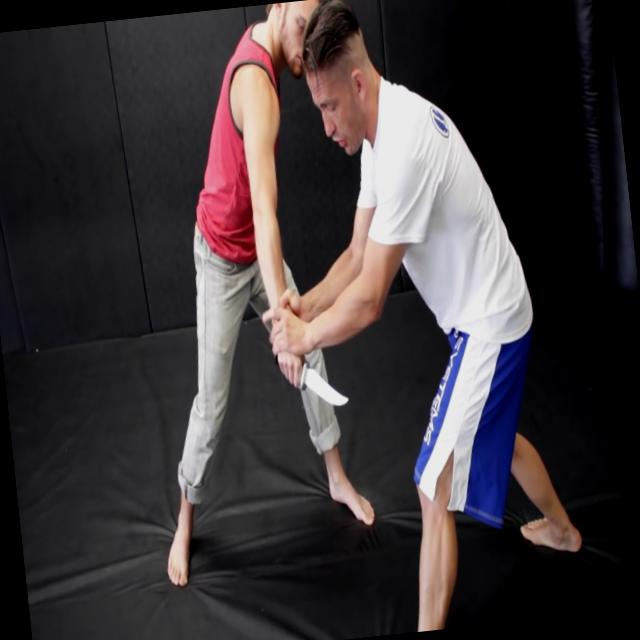knife: (272, 344, 352, 418)
